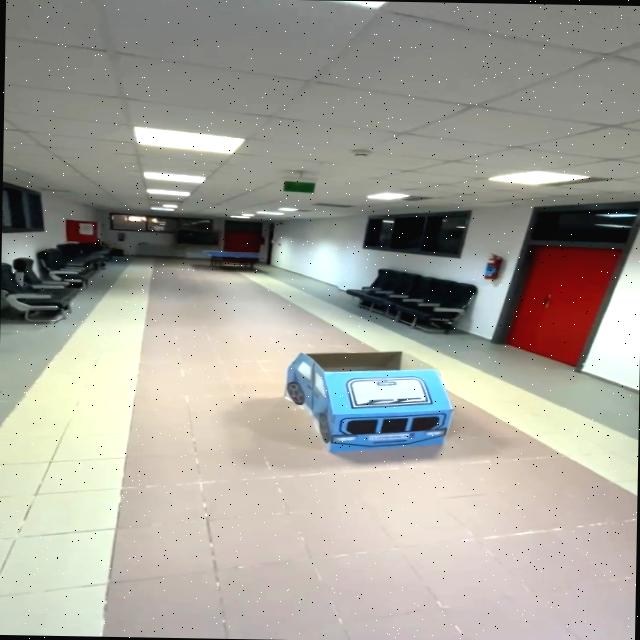blue_car: (261, 328, 482, 482)
